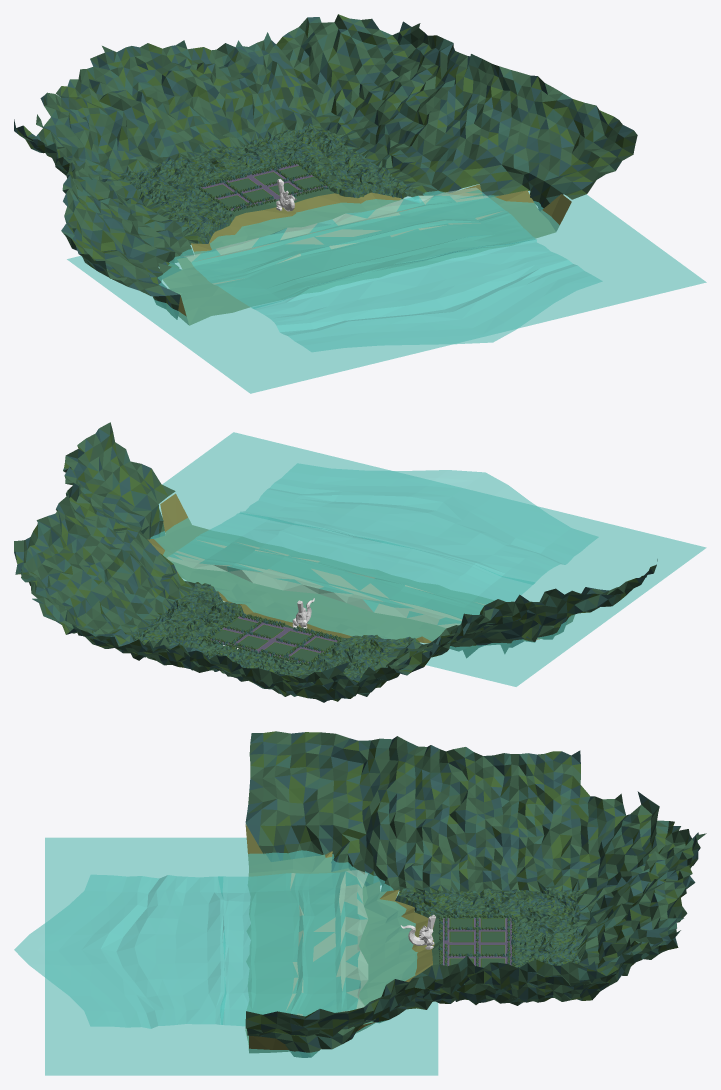
The model's file is Map(Guncel1).fbx.
3 renders of one model, top to bottom at view 1: azimuth 30°, elevation 25°; view 2: azimuth 150°, elevation 25°; view 3: azimuth 270°, elevation 25°, orthographic. The views are drawn at different scales.
Parts seen in each view (by area): view 1: map_forest, map_sea, TSUNAMI, map_coast, map_forest.001, Tiles; view 2: map_sea, map_forest, TSUNAMI, map_coast, map_forest.001, Tiles; view 3: map_forest, map_sea, TSUNAMI, map_coast, map_forest.001, Tiles, Gojira.
Part boxes in pixels (left/top/right/bottom): map_forest: left=14, top=14, right=637, bottom=319; map_sea: left=67, top=184, right=706, bottom=393; TSUNAMI: left=182, top=187, right=602, bottom=352; map_coast: left=158, top=184, right=571, bottom=325; map_forest.001: left=195, top=160, right=334, bottom=216; Tiles: left=203, top=166, right=323, bottom=208; map_sea: left=150, top=432, right=706, bottom=686; map_forest: left=14, top=422, right=657, bottom=702; TSUNAMI: left=166, top=463, right=598, bottom=628; map_coast: left=147, top=493, right=584, bottom=644; map_forest.001: left=203, top=612, right=346, bottom=666; Tiles: left=211, top=618, right=336, bottom=661; map_forest: left=245, top=731, right=706, bottom=1057; map_sea: left=45, top=837, right=438, bottom=1075; TSUNAMI: left=14, top=870, right=368, bottom=1028; map_coast: left=245, top=824, right=434, bottom=1052; map_forest.001: left=432, top=914, right=515, bottom=967; Tiles: left=449, top=918, right=505, bottom=967; Gojira: left=400, top=914, right=435, bottom=949.
Size of the model in its own units: 4692 by 911 by 4857.
